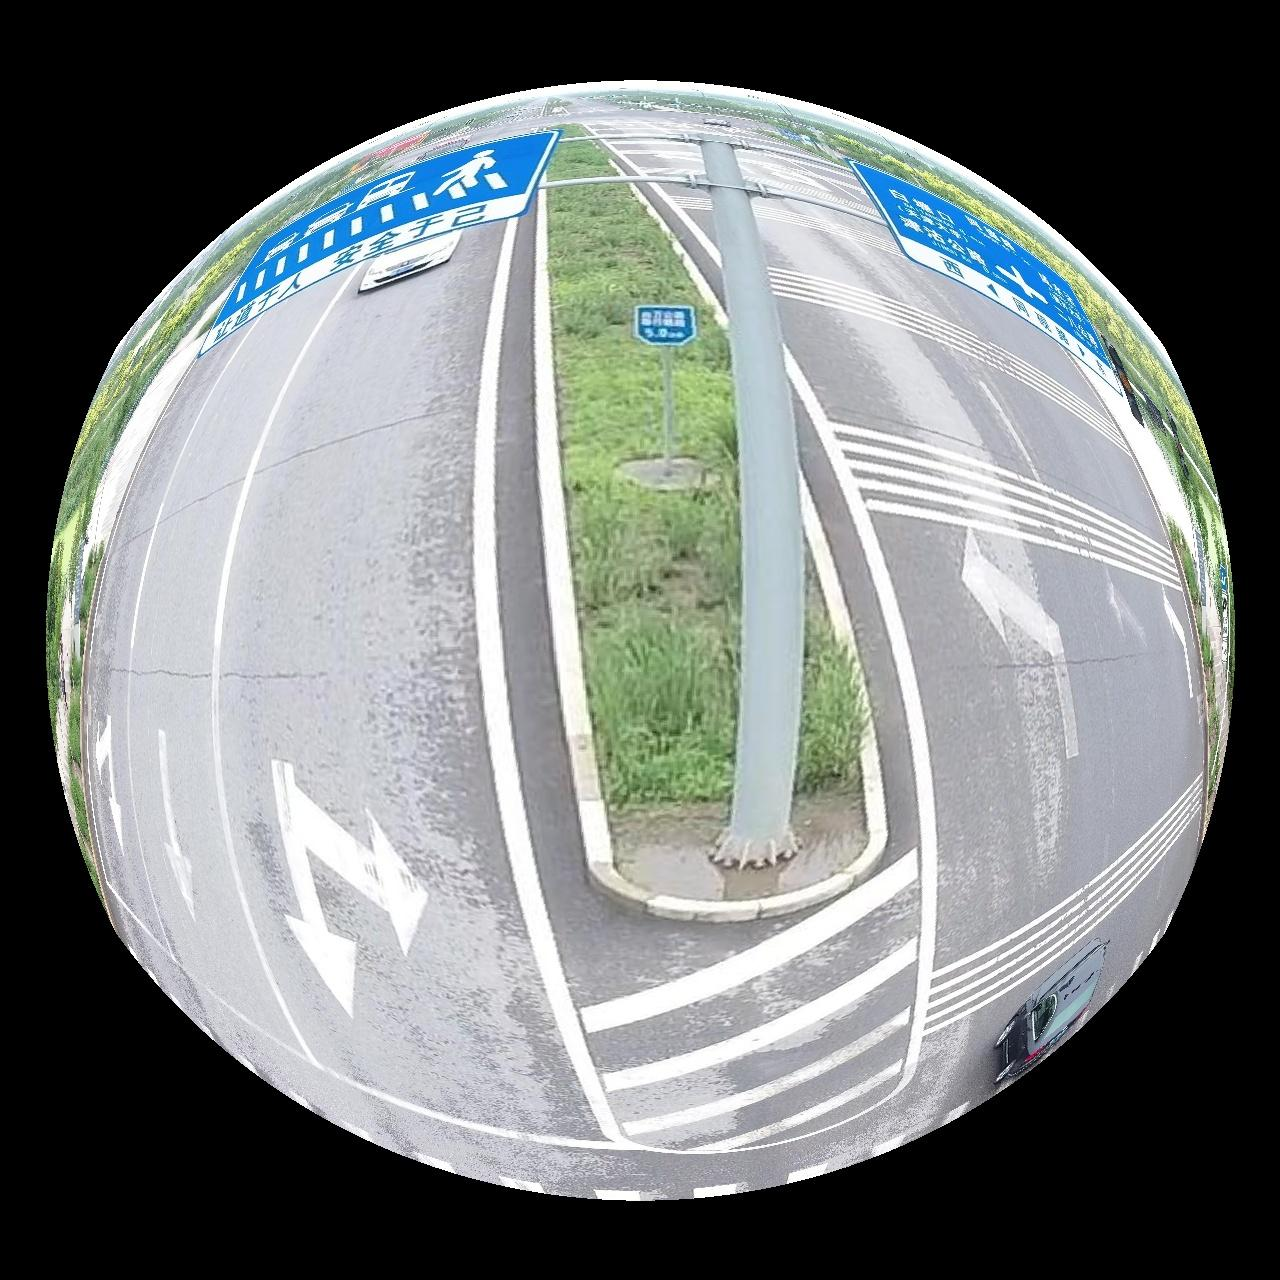cars: (998, 941, 1110, 1087), (359, 231, 461, 290)
